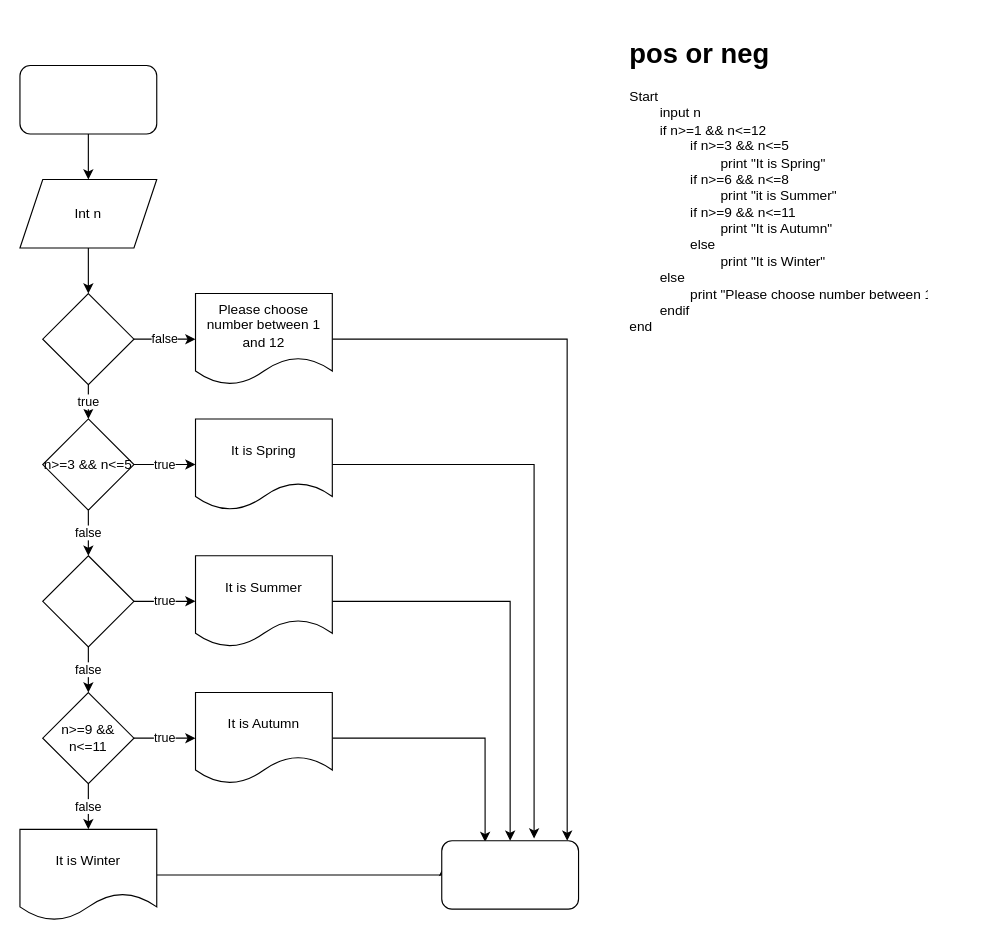
Some shapes in this 996 by 941 pixel diagram are drawn without their labels. The shapes that lost their labels are listed below. From the top down, each one's centre as x and y in pixels, then its label:
the point at 88,99: Start
the point at 88,338: n>=1 && N<=12
the point at 88,601: n>=6 && n<=8
the point at 510,874: End
